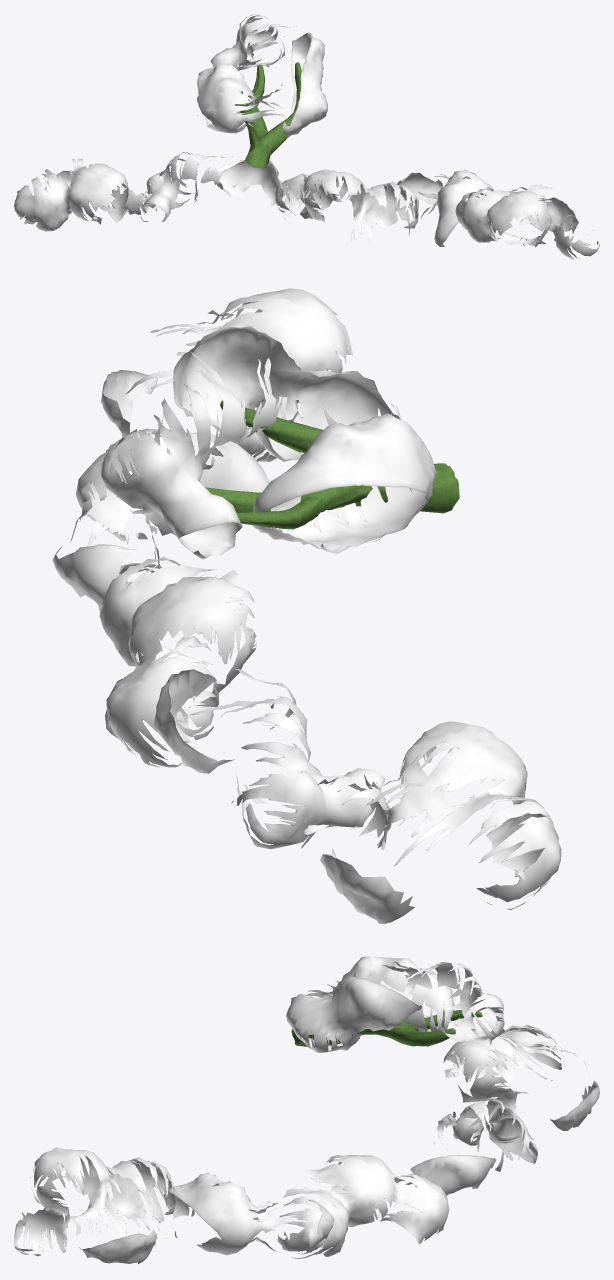
File: SM_ENV_KNFRST_DistanceLeaf_GroupE.FBX
3 renders of one model, top to bottom at view 1: azimuth 30°, elevation 25°; view 2: azimuth 150°, elevation 25°; view 3: azimuth 270°, elevation 25°, orthographic. The views are drawn at different scales.
Parts seen in each view (by area): view 1: SM_ENV_KNFRST_DistanceLeaf_GroupE; view 2: SM_ENV_KNFRST_DistanceLeaf_GroupE; view 3: SM_ENV_KNFRST_DistanceLeaf_GroupE.
Boxes of the visible parts, x1,y1,x2,y2 form: SM_ENV_KNFRST_DistanceLeaf_GroupE: [14, 14, 599, 259]; SM_ENV_KNFRST_DistanceLeaf_GroupE: [52, 288, 561, 923]; SM_ENV_KNFRST_DistanceLeaf_GroupE: [14, 956, 599, 1263].
Size of the model in its own units: 6265 by 3182 by 6551.
